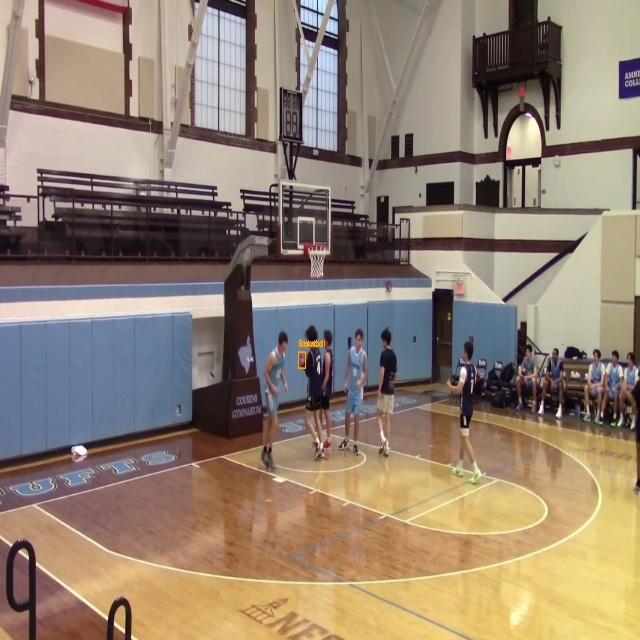Basketball: (299, 352, 306, 368)
